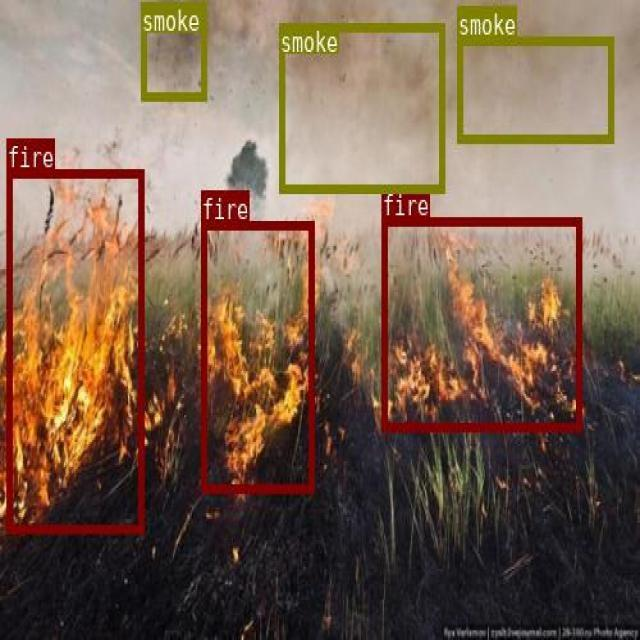fire: (6, 169, 142, 531), (381, 217, 581, 430), (200, 219, 313, 491)
smoke: (278, 23, 443, 191), (457, 36, 612, 141), (141, 0, 206, 99)
